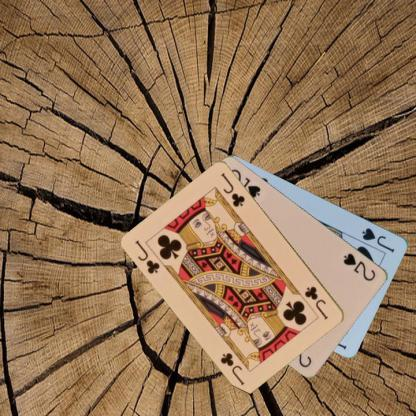2s: (341, 250, 377, 283)
Jc: (132, 238, 162, 275), (302, 284, 330, 321)
Js: (360, 225, 396, 254)
